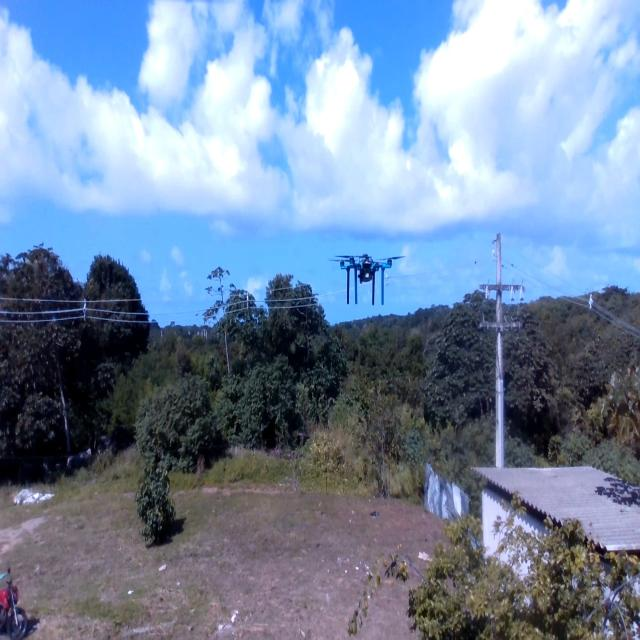-uav-: (322, 238, 412, 314)
